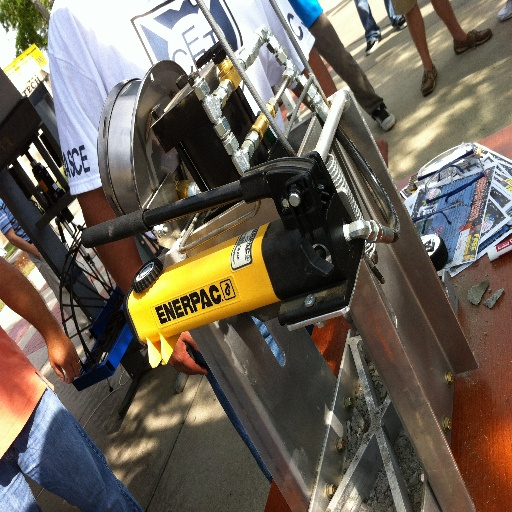hand: (151, 329, 208, 374), (46, 326, 82, 384), (373, 138, 388, 169)
